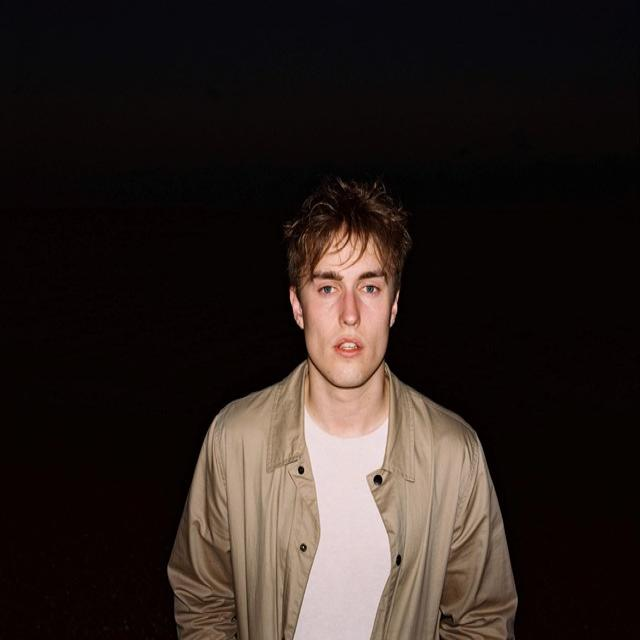human: (161, 170, 516, 640)
